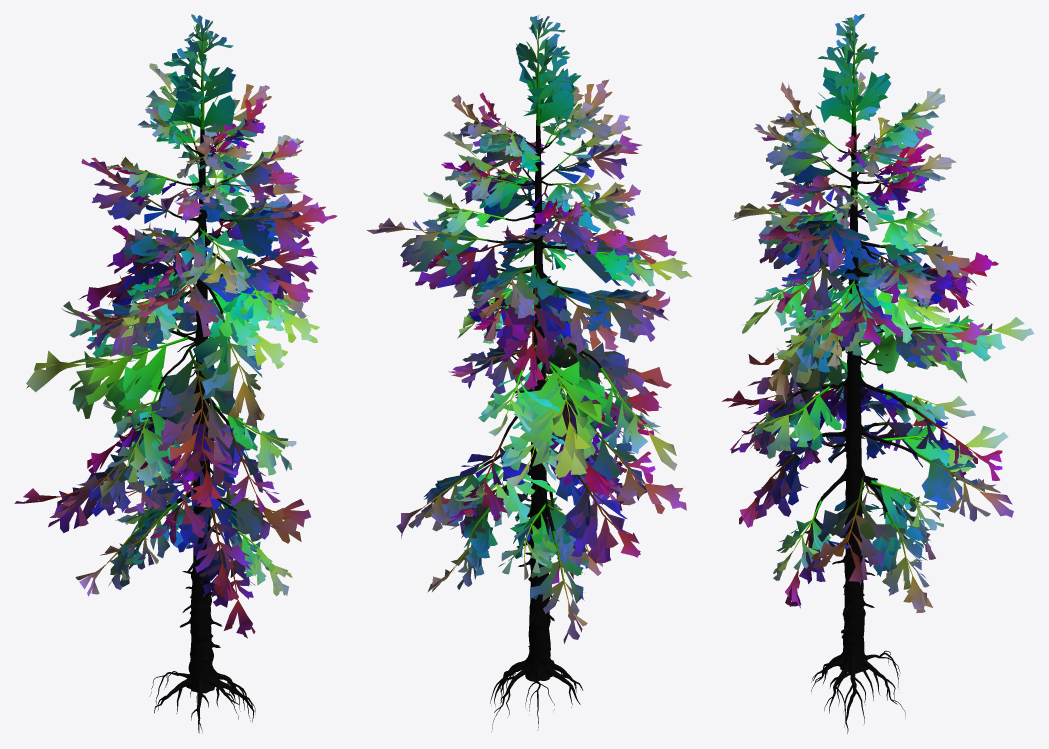
The model's file is SM_SilverFir_L_01.fbx.
The picture shows the model from 3 angles, left to right: view 1: azimuth 30°, elevation 25°; view 2: azimuth 150°, elevation 25°; view 3: azimuth 270°, elevation 25°; orthographic projection. The views are drawn at different scales.
Parts seen in each view (by area): view 1: SM_SilverFir_L_01_LOD0; view 2: SM_SilverFir_L_01_LOD0; view 3: SM_SilverFir_L_01_LOD0.
Part boxes in pixels (x1,y1,x2,y2): SM_SilverFir_L_01_LOD0: (14, 14, 336, 733); SM_SilverFir_L_01_LOD0: (366, 14, 691, 731); SM_SilverFir_L_01_LOD0: (722, 14, 1034, 733).
Bounding box in the file's own units: 1188 × 1149 × 2827.
